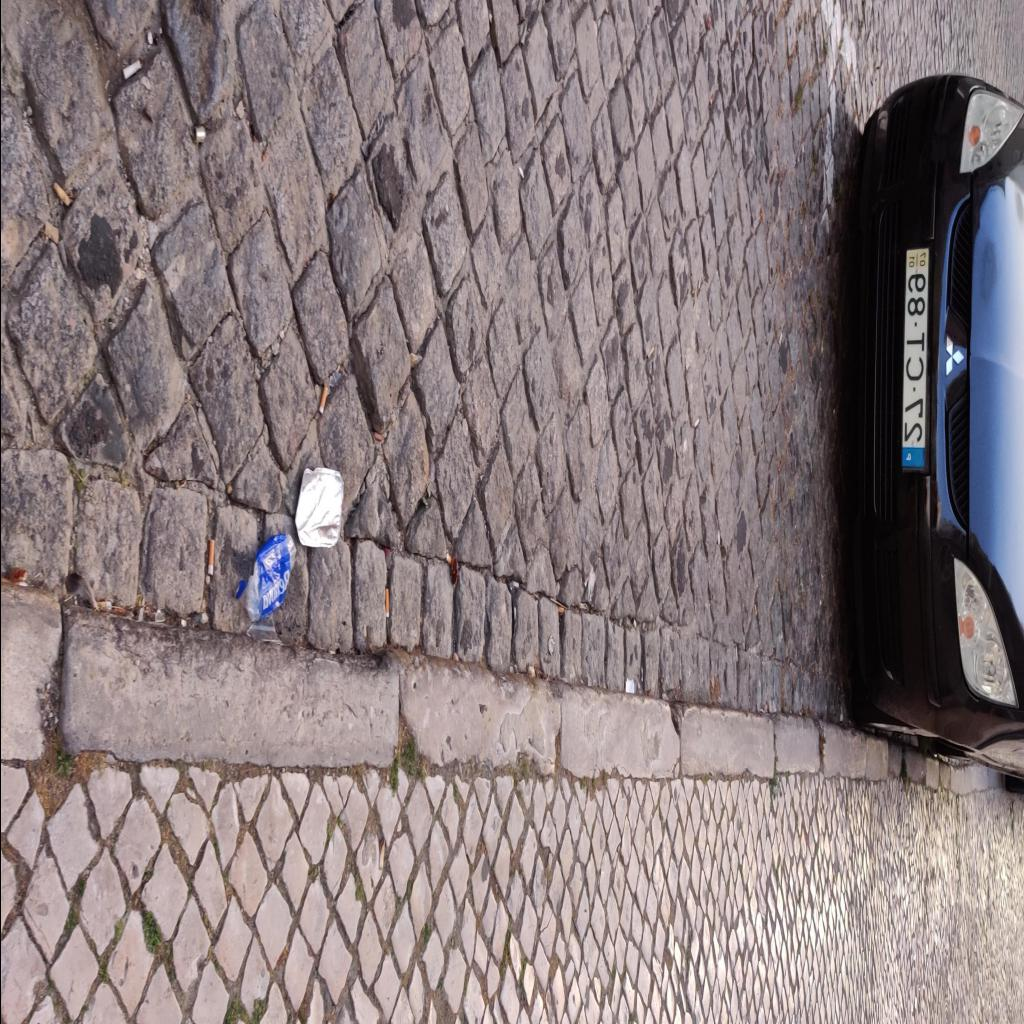Aluminium foil: (294, 467, 344, 547)
Cigarette: (120, 59, 140, 81), (41, 222, 58, 244), (317, 386, 328, 416), (206, 540, 214, 576), (378, 840, 384, 868), (96, 602, 112, 612), (384, 587, 388, 617), (646, 345, 654, 360), (752, 602, 756, 614)
Metal bottle cap: (546, 636, 554, 658)
Plastic film: (234, 532, 294, 645), (444, 552, 450, 568)
Unlabeled litter: (194, 124, 206, 144), (625, 680, 634, 694)
